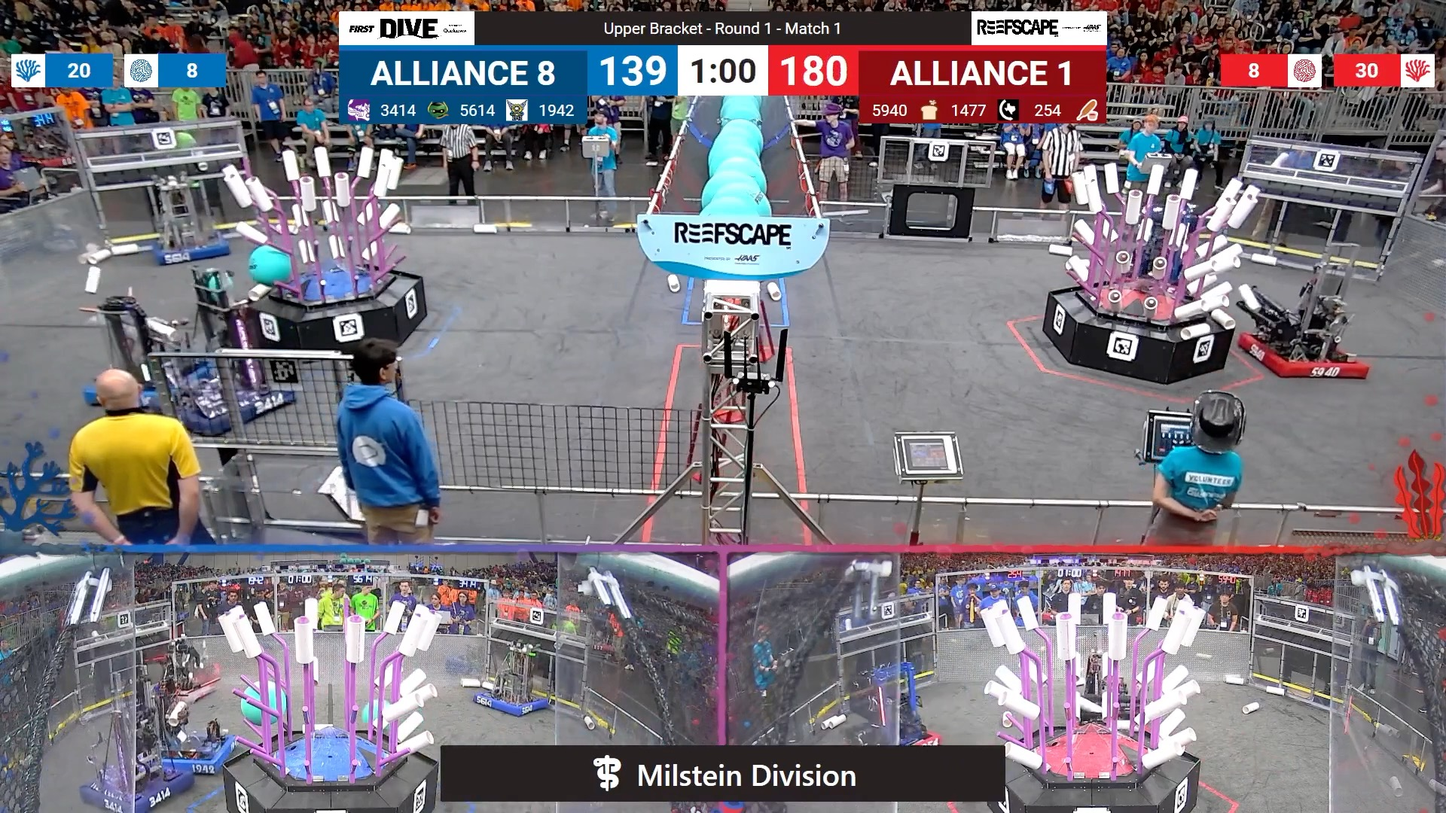bumpers: (95, 356, 302, 444), (1225, 325, 1375, 388), (80, 769, 203, 810), (134, 727, 236, 774), (142, 237, 234, 269), (466, 688, 552, 722), (846, 721, 949, 749)
